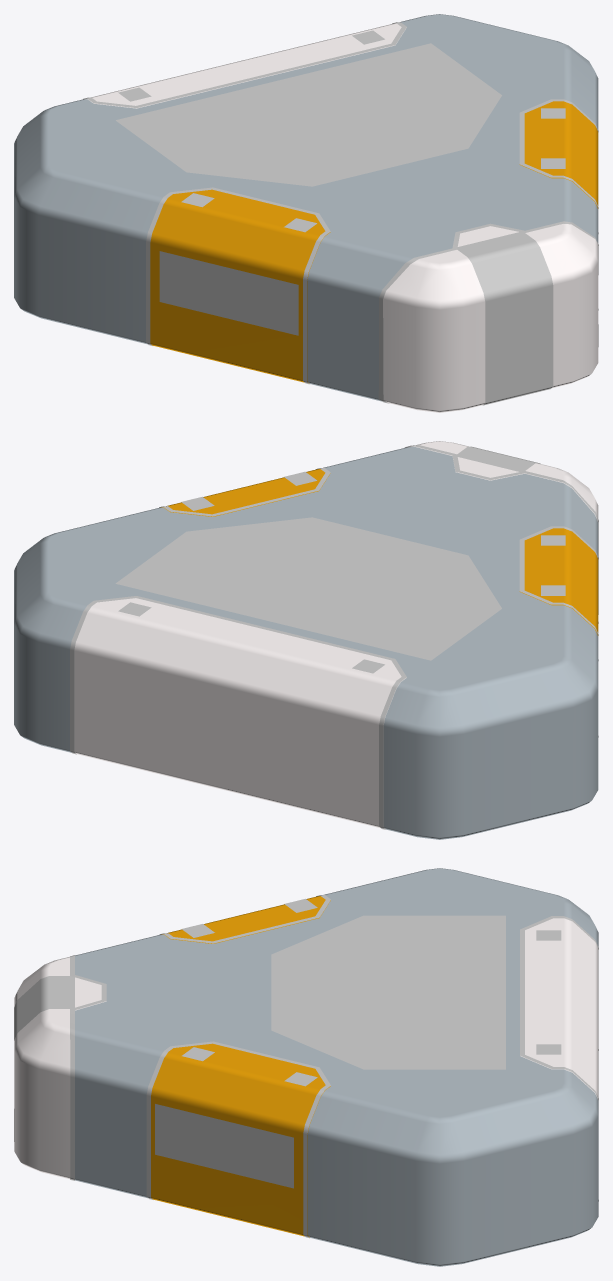
The model's file is catcher.fbx.
3 renders of one model, top to bottom at view 1: azimuth 30°, elevation 25°; view 2: azimuth 150°, elevation 25°; view 3: azimuth 270°, elevation 25°, orthographic.
Parts seen in each view (by area): view 1: Container004, Container004_d; view 2: Container004, Container004_d; view 3: Container004, Container004_d.
Part boxes in pixels (x1,y1,x2,y2): Container004: (14,14,598,412); Container004_d: (83,22,598,405); Container004: (14,441,598,839); Container004_d: (70,445,598,829); Container004: (14,868,598,1266); Container004_d: (14,895,598,1238).
Size of the model in its own units: 0.667 by 0.1531 by 0.5909.
